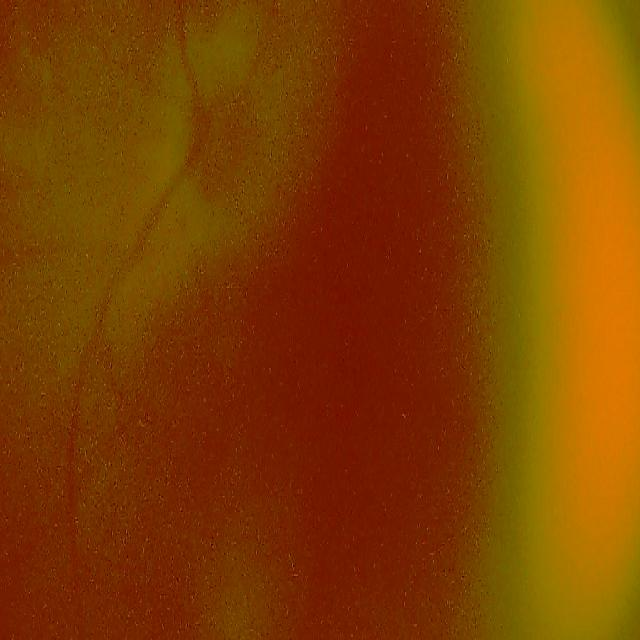optic-nerve: (168, 68, 284, 240)
